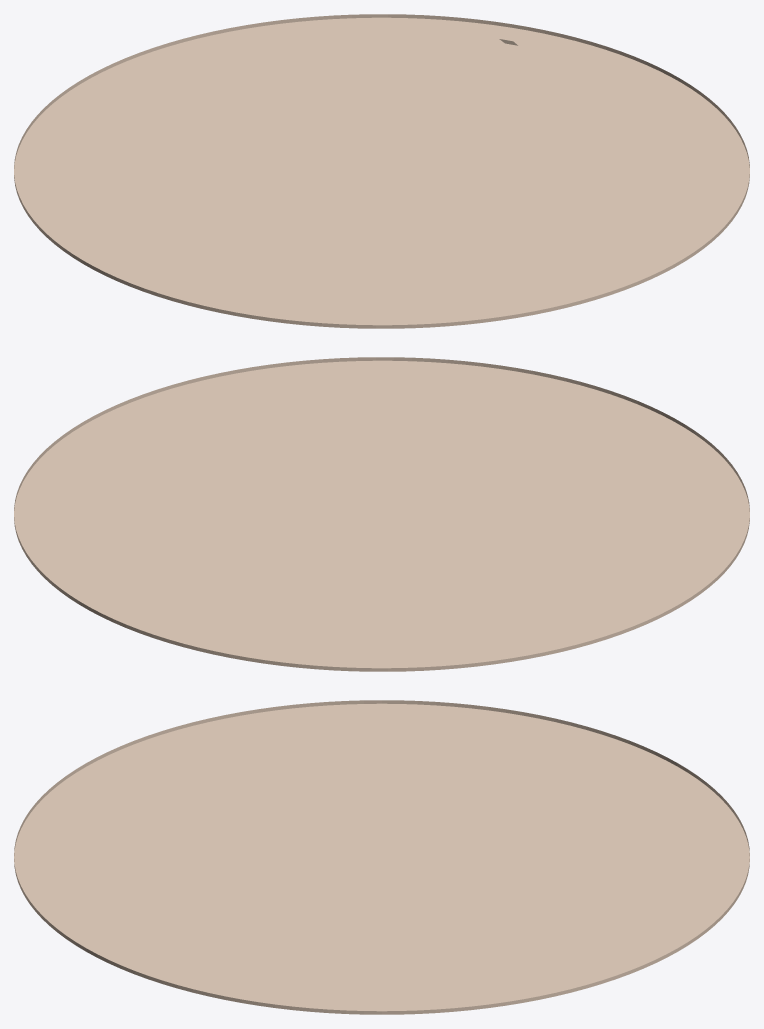
Rendered from sub_staris.fbx.
3 views of the same model, one above another, from view 1: azimuth 30°, elevation 25°; view 2: azimuth 150°, elevation 25°; view 3: azimuth 270°, elevation 25° (orthographic).
Parts seen in each view (by area): view 1: ground_31.5_c; view 2: ground_31.5_c; view 3: ground_31.5_c.
Boxes of the visible parts, x1,y1,x2,y2 form: ground_31.5_c: (14, 14, 749, 328); ground_31.5_c: (14, 357, 749, 671); ground_31.5_c: (14, 700, 749, 1014).
Bounding box in the file's own units: 3150 × 136 × 3150.
